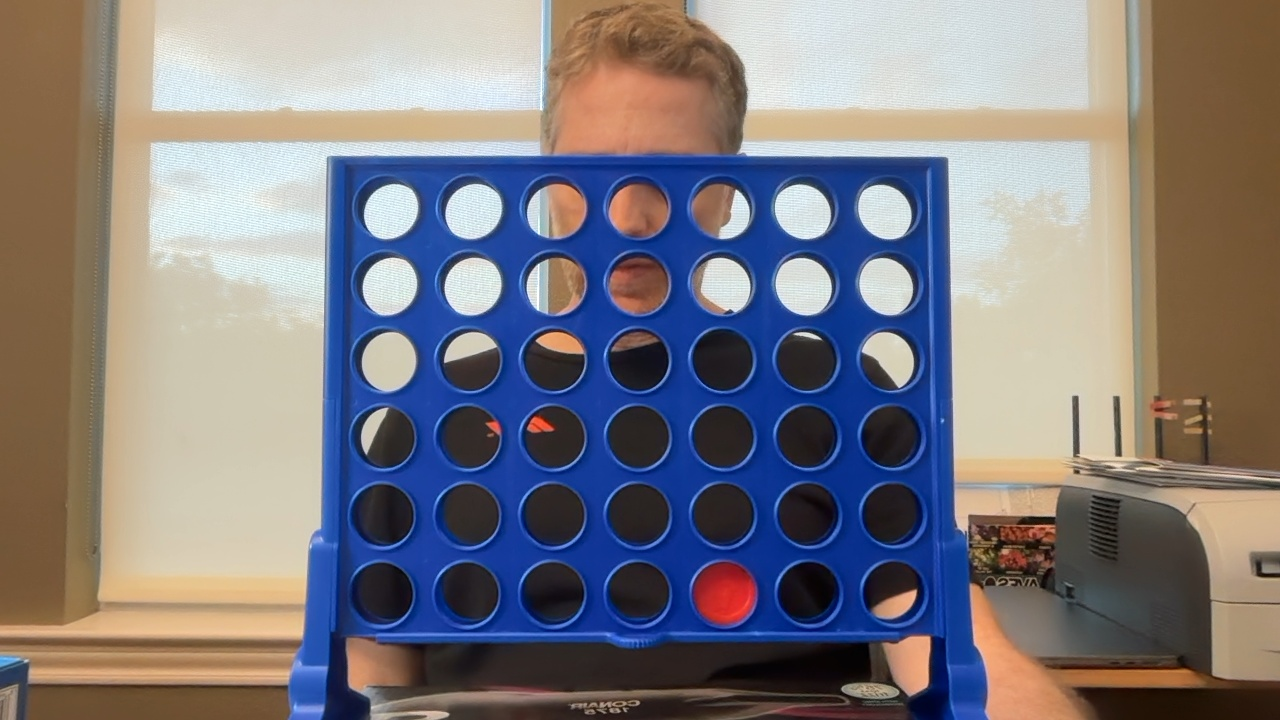red piece: (692, 561, 757, 625)
